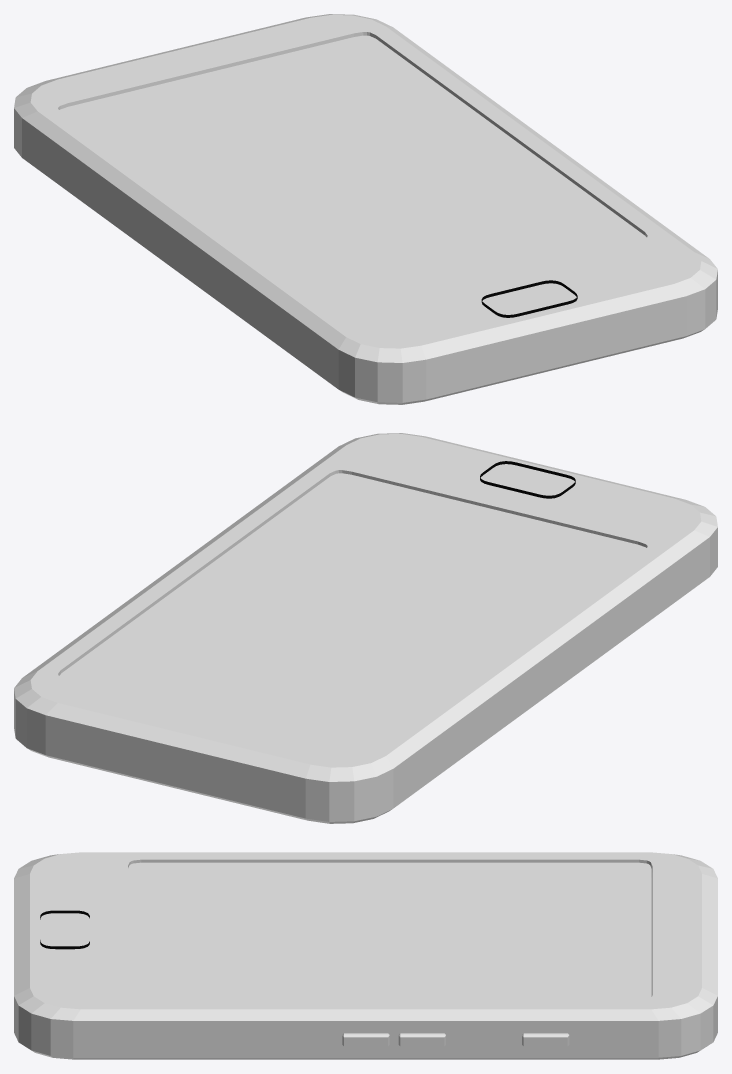
File: phone.glb
3 views of the same model, one above another, from view 1: azimuth 30°, elevation 25°; view 2: azimuth 150°, elevation 25°; view 3: azimuth 270°, elevation 25° (orthographic). The views are drawn at different scales.
Parts seen in each view (by area): view 1: Cube.002, Cube, Plane; view 2: Cube.002, Cube, Plane; view 3: Cube.002, Cube, Cube.001, Plane.
Part boxes in pixels (x1=…): Cube.002: x1=59, y1=35, x2=646, y2=312; Cube: x1=14, y1=14, x2=717, y2=404; Plane: x1=481, y1=280, x2=577, y2=317; Cube.002: x1=59, y1=473, x2=646, y2=750; Cube: x1=14, y1=433, x2=717, y2=823; Plane: x1=480, y1=461, x2=575, y2=498; Cube.002: x1=128, y1=862, x2=651, y2=1001; Cube: x1=14, y1=852, x2=717, y2=1059; Cube.001: x1=342, y1=1033, x2=569, y2=1046; Plane: x1=40, y1=910, x2=89, y2=949.
Size of the model in its own units: 1.14 by 0.19 by 2.
Materials: 5 (1 with a texture image).
